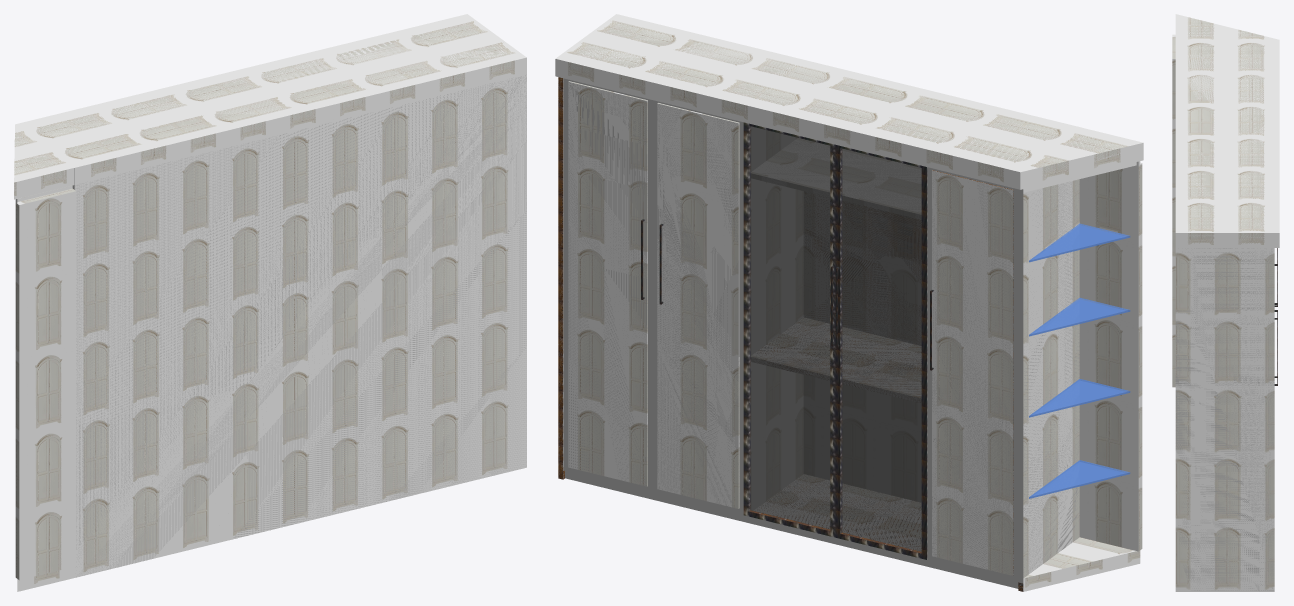
The picture shows the model from 3 angles, left to right: view 1: azimuth 30°, elevation 25°; view 2: azimuth 150°, elevation 25°; view 3: azimuth 270°, elevation 25°; orthographic projection. The views are drawn at different scales.
Visible parts, largest first — view 1: mesh6_mesh6-geometry, mesh1_mesh1-geometry; view 2: mesh6_mesh6-geometry, mesh1_mesh1-geometry, mesh2_mesh2-geometry, mesh4_mesh4-geometry, mesh3_mesh3-geometry, mesh5_mesh5-geometry, mesh17_mesh17-geometry; view 3: mesh6_mesh6-geometry, mesh1_mesh1-geometry, mesh17_mesh17-geometry.
Part boxes in pixels (bbox=[...]): mesh6_mesh6-geometry: bbox=[15, 74, 526, 591]; mesh1_mesh1-geometry: bbox=[14, 14, 526, 199]; mesh6_mesh6-geometry: bbox=[558, 77, 1142, 591]; mesh1_mesh1-geometry: bbox=[555, 14, 1143, 189]; mesh2_mesh2-geometry: bbox=[1029, 460, 1130, 498]; mesh4_mesh4-geometry: bbox=[1029, 297, 1130, 336]; mesh3_mesh3-geometry: bbox=[1029, 379, 1130, 417]; mesh5_mesh5-geometry: bbox=[1029, 223, 1130, 262]; mesh17_mesh17-geometry: bbox=[641, 219, 933, 370]; mesh6_mesh6-geometry: bbox=[1172, 34, 1274, 591]; mesh1_mesh1-geometry: bbox=[1175, 14, 1279, 247]; mesh17_mesh17-geometry: bbox=[1274, 248, 1277, 385].
Bounding box in the file's own units: 0.784 × 0.5992 × 0.1623.
